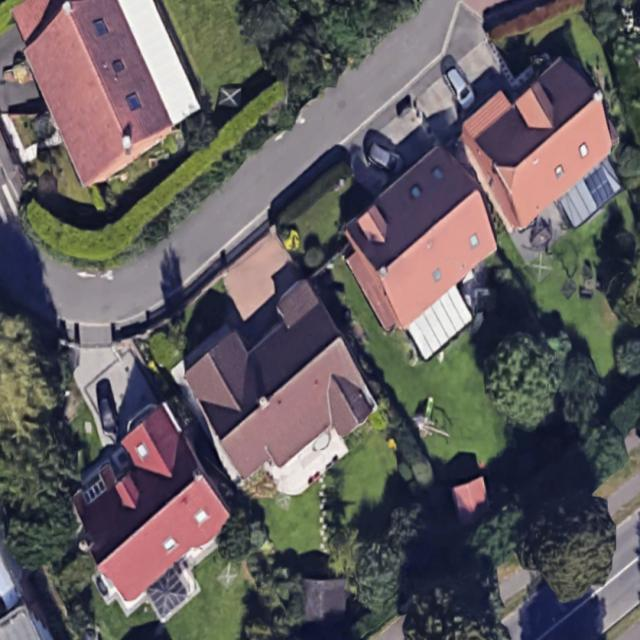maison: (315, 141, 543, 368), (170, 281, 385, 494), (40, 400, 251, 606), (435, 42, 635, 235), (4, 0, 181, 189)
